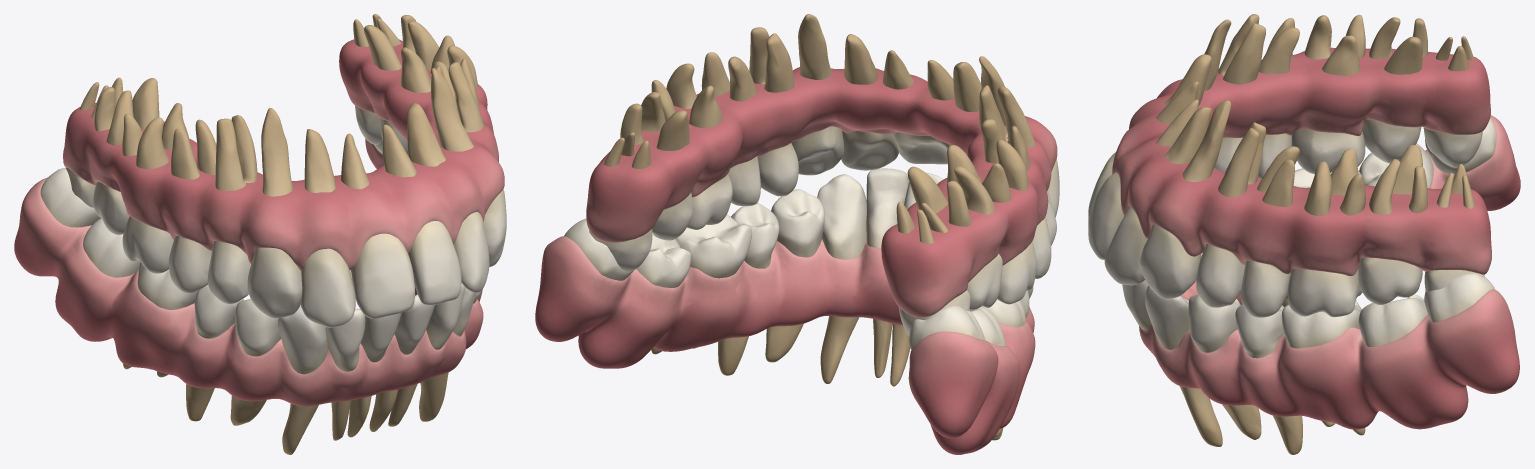
Rendered from dentition.glb.
The picture shows the model from 3 angles, left to right: view 1: azimuth 30°, elevation 25°; view 2: azimuth 150°, elevation 25°; view 3: azimuth 270°, elevation 25°; orthographic projection. The views are drawn at different scales.
Visible parts, largest first — view 1: gingiva_upper, gingiva_lower, tooth_11_crown, tooth_12_crown, tooth_21_crown, tooth_13_crown, tooth_14_root, tooth_17_root, tooth_16_root, tooth_43_crown, tooth_27_root, tooth_14_crown (+37 smaller); view 2: gingiva_lower, gingiva_upper, tooth_33_crown, tooth_36_crown, tooth_17_root, tooth_34_crown, tooth_27_root, tooth_26_root, tooth_32_crown, tooth_16_root, tooth_24_root, tooth_37_crown (+33 smaller); view 3: gingiva_upper, gingiva_lower, tooth_23_crown, tooth_26_crown, tooth_26_root, tooth_27_root, tooth_16_root, tooth_37_crown, tooth_27_crown, tooth_24_crown, tooth_36_crown, tooth_25_crown (+32 smaller).
Part boxes in pixels (x1,y1,x2,y2): gingiva_upper: (63, 39, 504, 271); gingiva_lower: (14, 138, 483, 406); tooth_11_crown: (350, 233, 414, 318); tooth_12_crown: (301, 248, 355, 327); tooth_21_crown: (408, 221, 461, 304); tooth_13_crown: (247, 247, 302, 318); tooth_14_root: (215, 115, 257, 190); tooth_17_root: (94, 78, 159, 145); tooth_16_root: (122, 103, 189, 169); tooth_43_crown: (278, 306, 327, 374); tooth_27_root: (364, 15, 439, 70); tooth_14_crown: (207, 241, 250, 304); gingiva_lower: (535, 236, 1035, 454); gingiva_upper: (586, 67, 1057, 317); tooth_33_crown: (817, 174, 866, 259); tooth_36_crown: (675, 214, 751, 278); tooth_17_root: (907, 166, 994, 226); tooth_34_crown: (771, 189, 824, 257); tooth_27_root: (620, 92, 689, 150); tooth_26_root: (651, 63, 722, 128); tooth_32_crown: (866, 168, 908, 247); tooth_16_root: (946, 139, 1028, 202); tooth_24_root: (749, 27, 794, 92); tooth_37_crown: (636, 234, 691, 287); gingiva_upper: (1112, 47, 1491, 275); gingiva_lower: (1139, 115, 1520, 429); tooth_23_crown: (1139, 224, 1200, 298); tooth_26_crown: (1287, 268, 1362, 317); tooth_26_root: (1304, 148, 1365, 215); tooth_27_root: (1369, 145, 1427, 214); tooth_16_root: (1304, 14, 1365, 75); tooth_37_crown: (1358, 294, 1427, 346); tooth_27_crown: (1358, 257, 1422, 304); tooth_24_crown: (1196, 244, 1245, 307); tooth_36_crown: (1281, 300, 1361, 348); tooth_25_crown: (1240, 260, 1291, 317).
Size of the model in its own units: 0.0724 by 0.058 by 0.0644.
